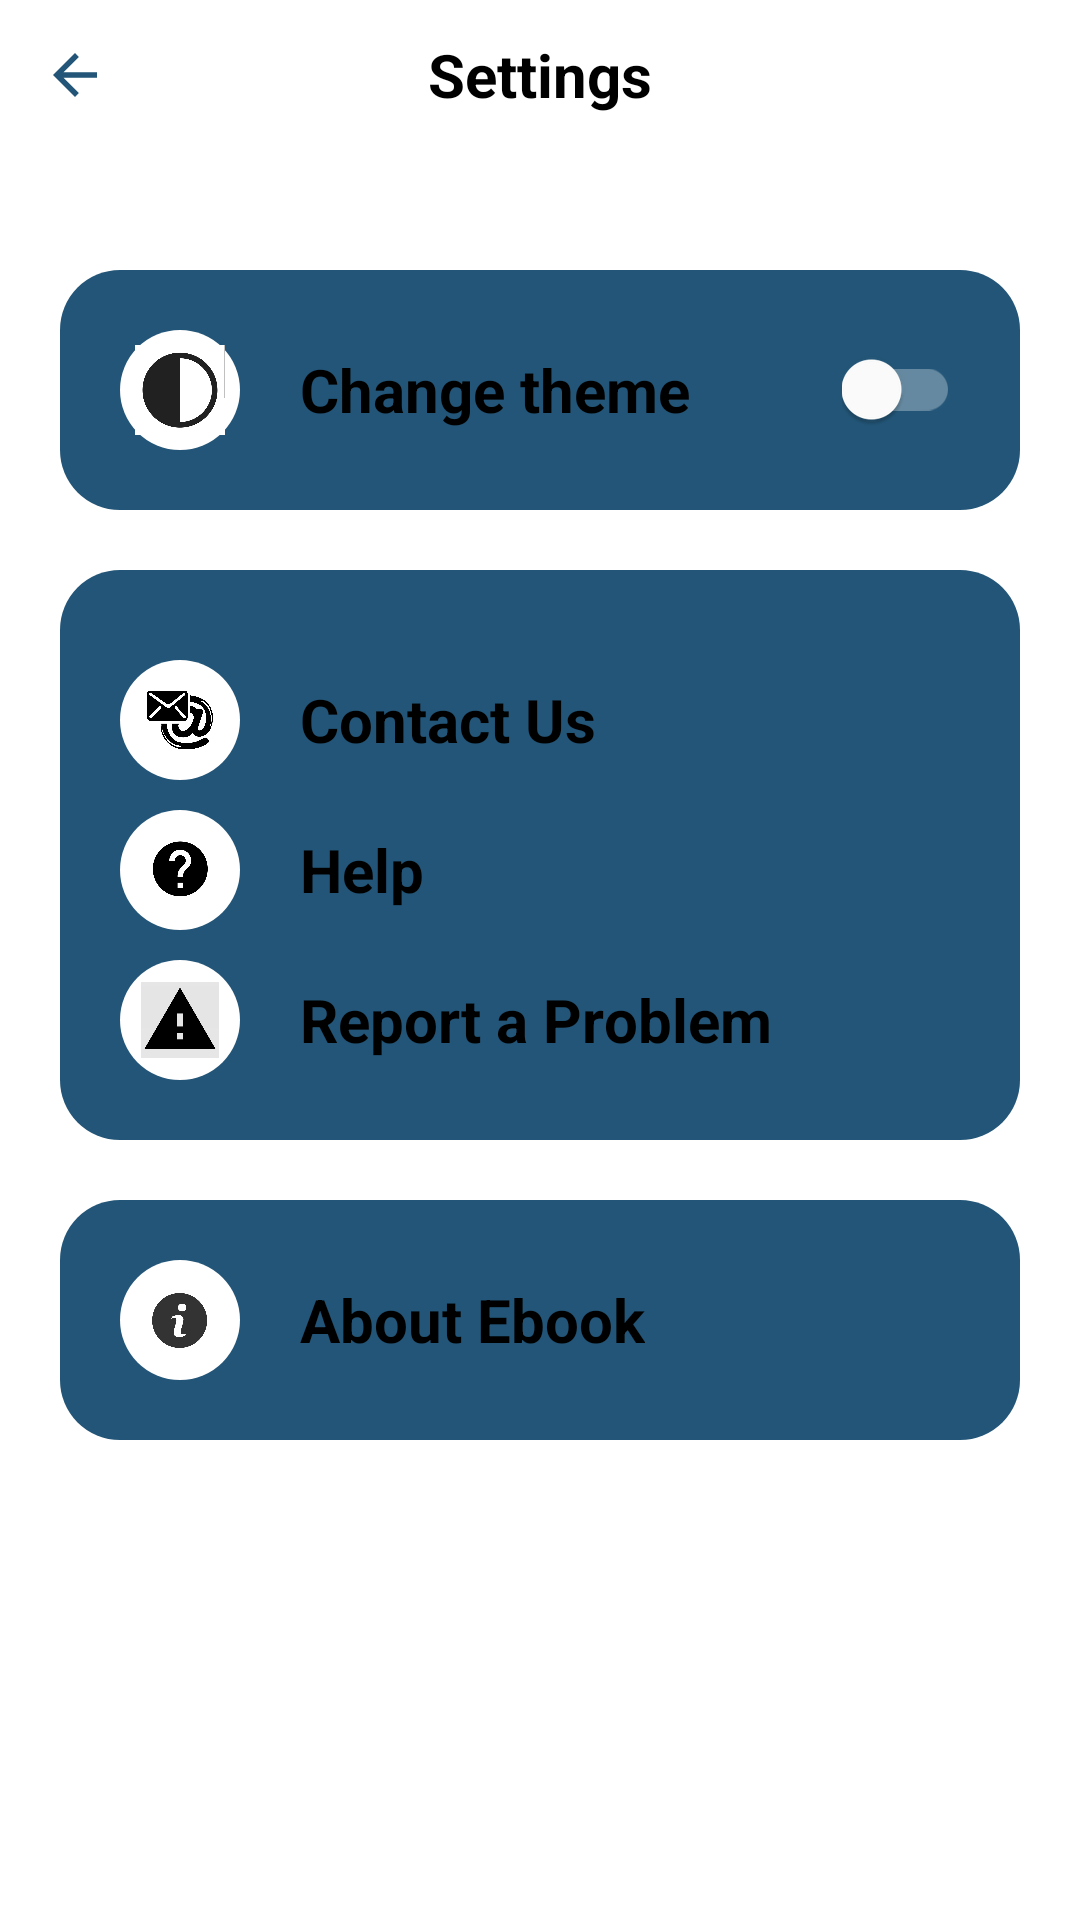

Icons on this 1080*1920 Android screen, each with the point to tap as (x,y):
back: (75,75)
